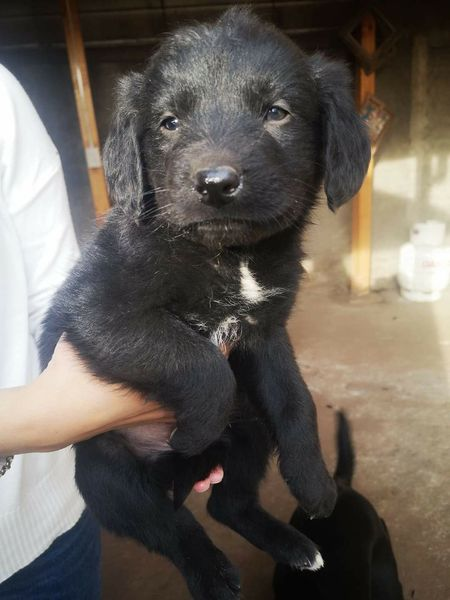dog: (54, 6, 384, 596)
